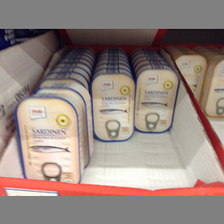fish: (15, 94, 85, 183), (135, 69, 180, 134), (91, 73, 134, 141), (176, 54, 208, 105)
